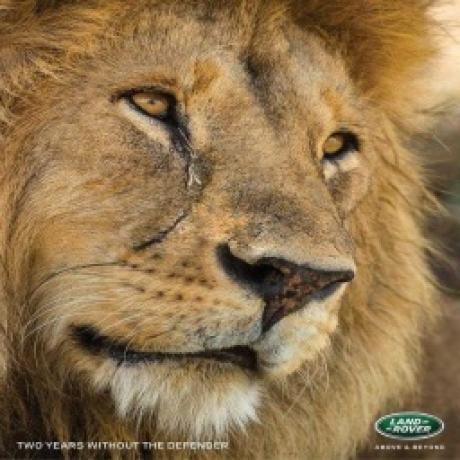Lion: (0, 0, 446, 460)
